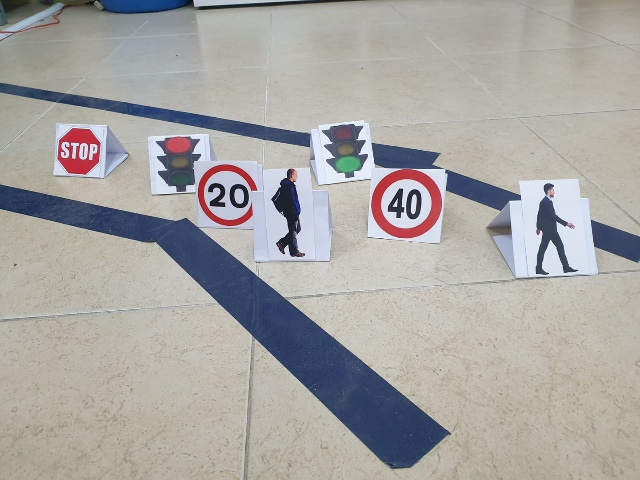Green: (318, 122, 369, 178)
Limit 20: (199, 165, 256, 225)
Limit 40: (370, 169, 443, 239)
Person: (523, 180, 583, 275), (264, 169, 310, 259)
Red: (150, 136, 198, 192)
Stop: (58, 127, 102, 177)
